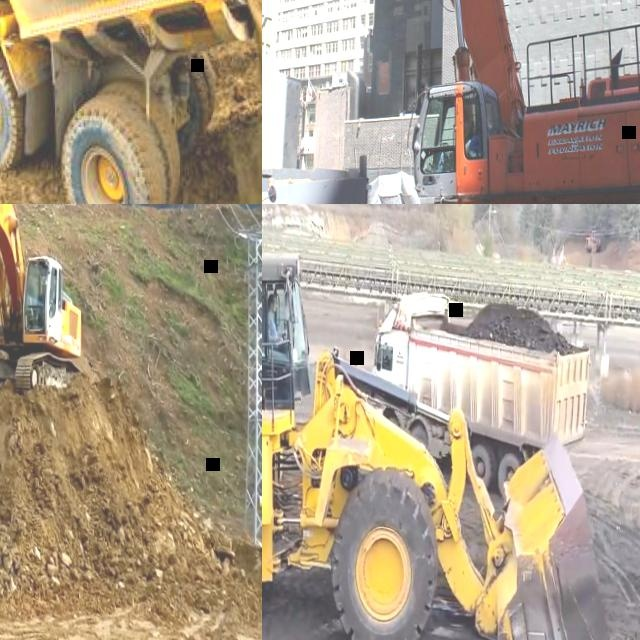NO-Hardhat: (268, 293, 276, 302)
NO-Mask: (271, 304, 277, 312)
NO-Safety Vest: (267, 317, 277, 339)
Person: (265, 292, 288, 349), (41, 283, 54, 322)
machinery: (262, 243, 624, 640), (262, 0, 640, 204), (0, 0, 262, 204), (0, 0, 232, 204), (371, 280, 592, 492), (0, 204, 85, 392)
